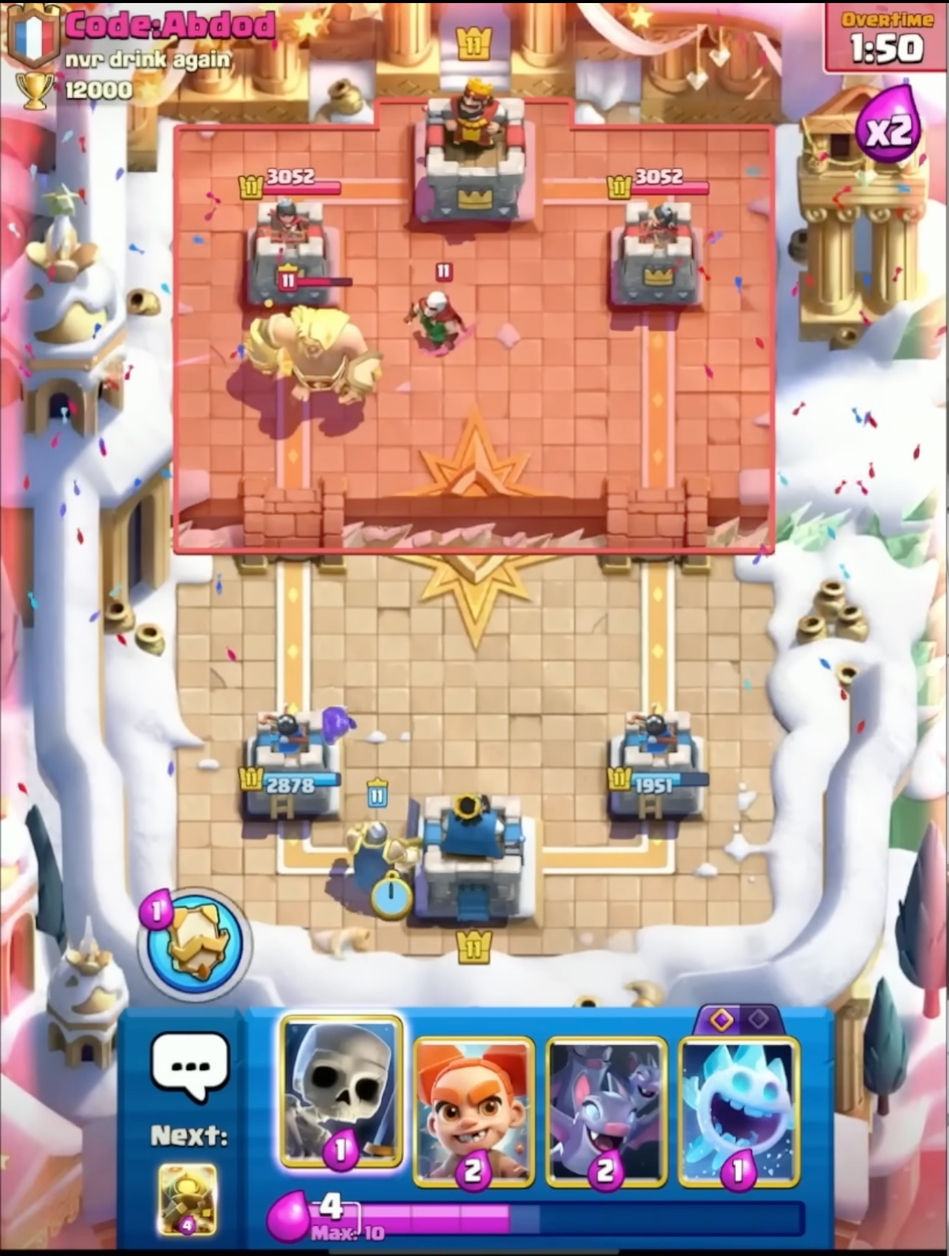hero-giant: (245, 264, 388, 411)
magic-archer: (403, 258, 483, 361)
